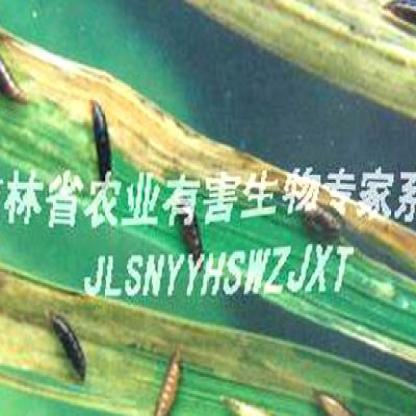whorl-maggot: (43, 312, 94, 388), (148, 349, 190, 416), (0, 48, 36, 114), (213, 381, 278, 416), (87, 91, 116, 168), (311, 382, 356, 416)
